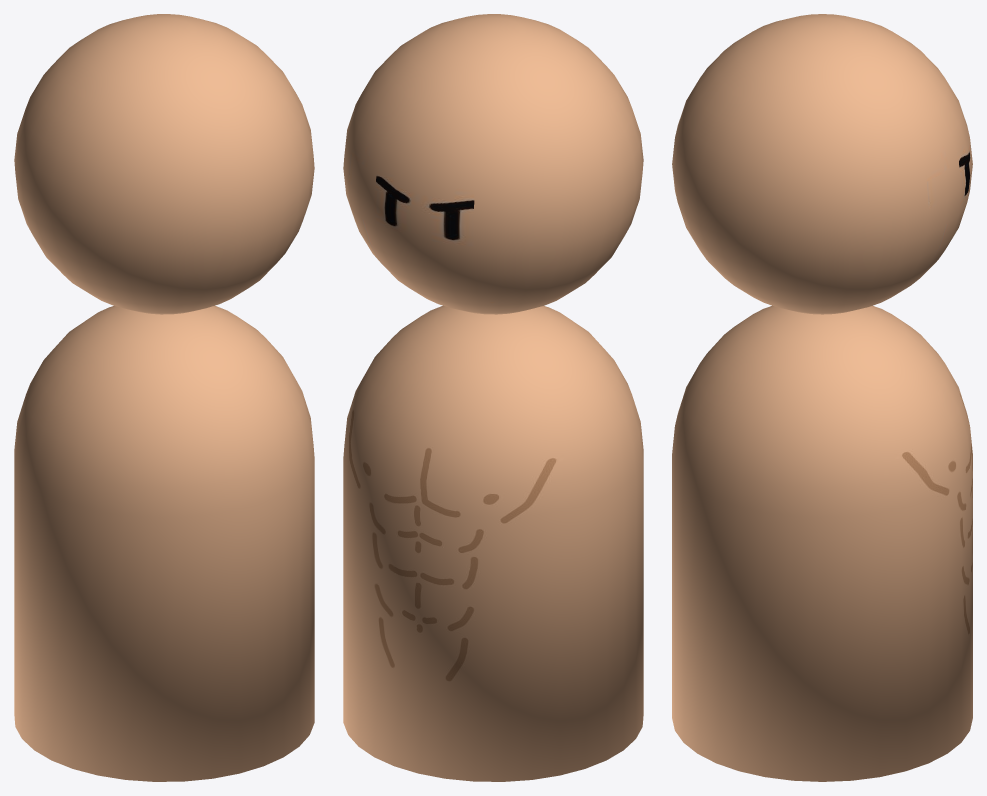
Rendered from MrMuscle.fbx.
3 views of the same model, side by side, from view 1: azimuth 30°, elevation 25°; view 2: azimuth 150°, elevation 25°; view 3: azimuth 270°, elevation 25° (orthographic).
Parts seen in each view (by area): view 1: corp, tete; view 2: corp, tete; view 3: corp, tete.
Part boxes in pixels (x1=…): corp: x1=14, y1=305, x2=314, y2=781; tete: x1=14, y1=14, x2=314, y2=314; corp: x1=343, y1=305, x2=643, y2=781; tete: x1=343, y1=14, x2=643, y2=314; corp: x1=672, y1=305, x2=972, y2=781; tete: x1=672, y1=14, x2=972, y2=314.
Bounding box in the file's own units: 120 × 304 × 120.
